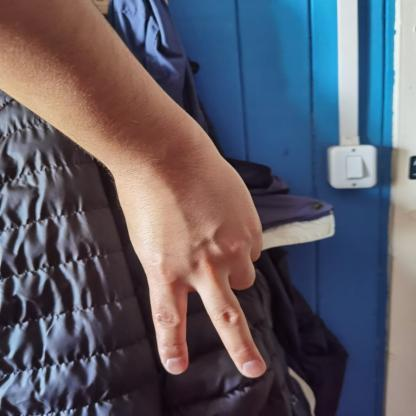N: (92, 118, 302, 386)
